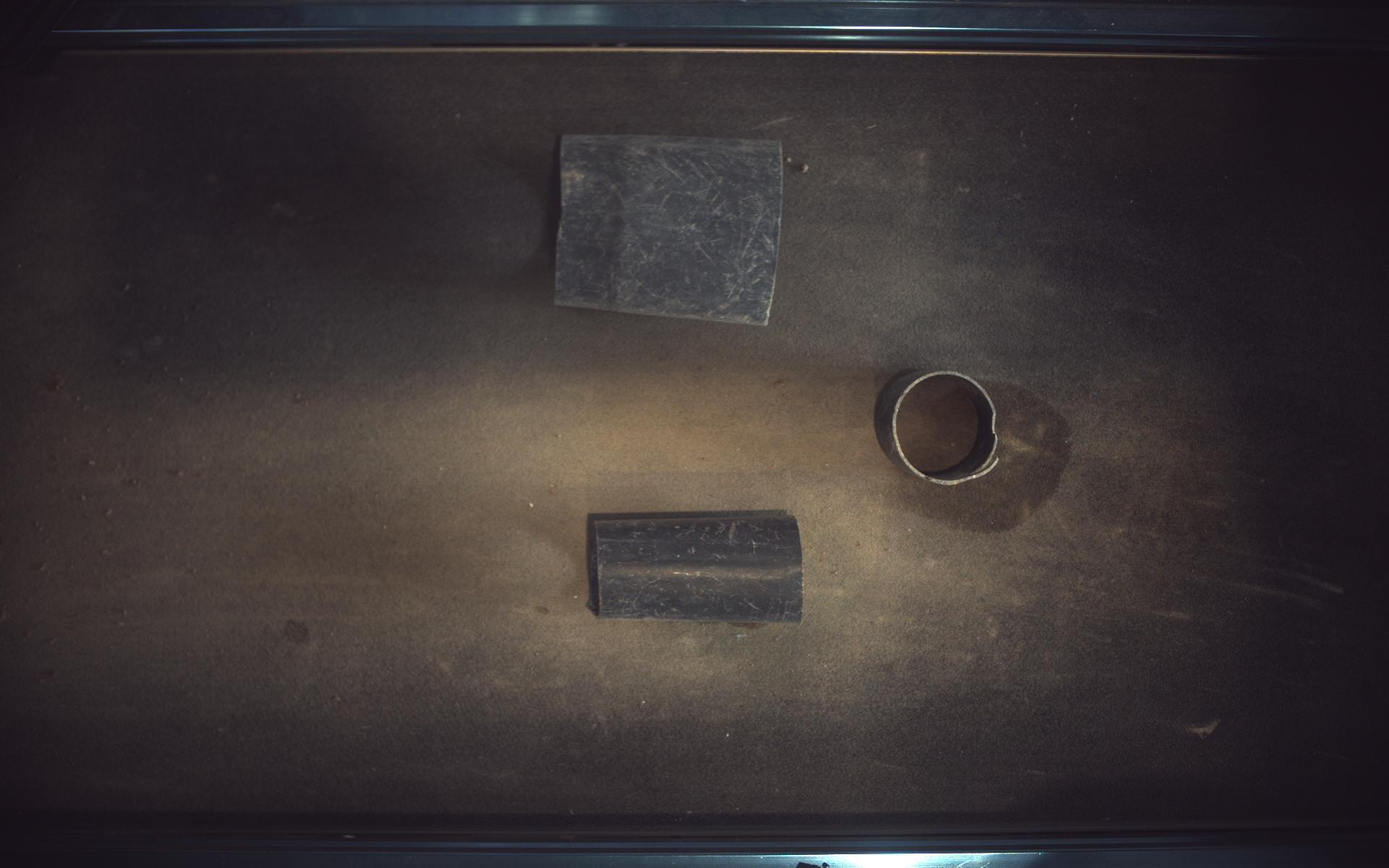pipes: (556, 135, 784, 325), (589, 511, 804, 624), (877, 370, 1000, 486)
